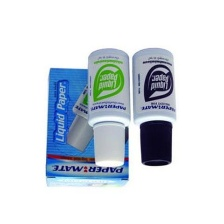book: (42, 65, 132, 189)
correction_fluid: (131, 45, 178, 167), (85, 46, 131, 168)
